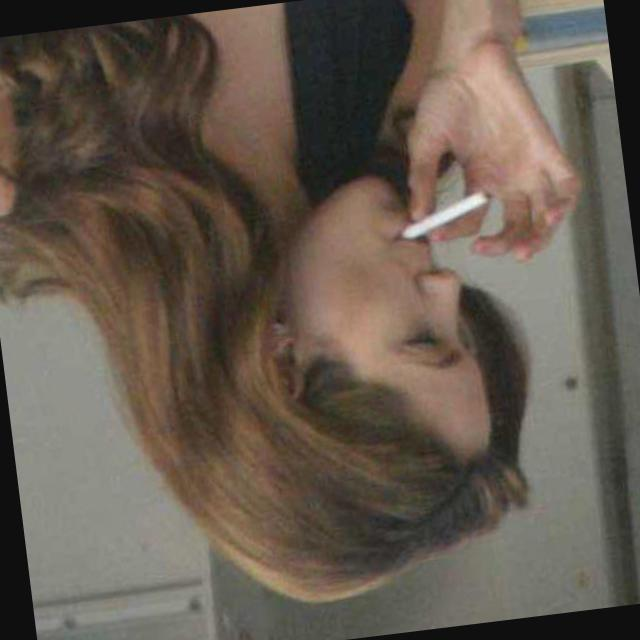smoke: (379, 189, 513, 250)
